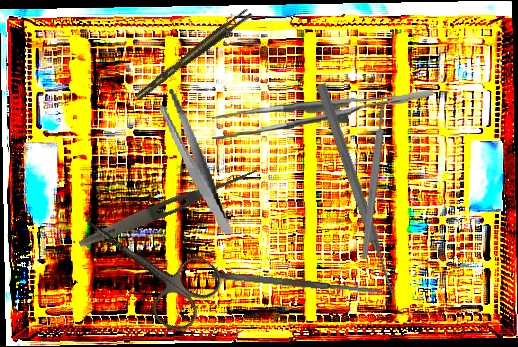Dressing Forceps: (76, 162, 260, 252), (156, 83, 234, 242)
Iris Scissors: (63, 187, 228, 339)
Pusher: (313, 82, 401, 301)
Scalpel Handle: (360, 103, 388, 260)
Spatula Surgical: (211, 270, 382, 297)
Tissue Forceps: (130, 7, 256, 101), (211, 90, 434, 139)
